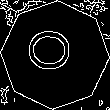O_E: (28, 32, 82, 78)
